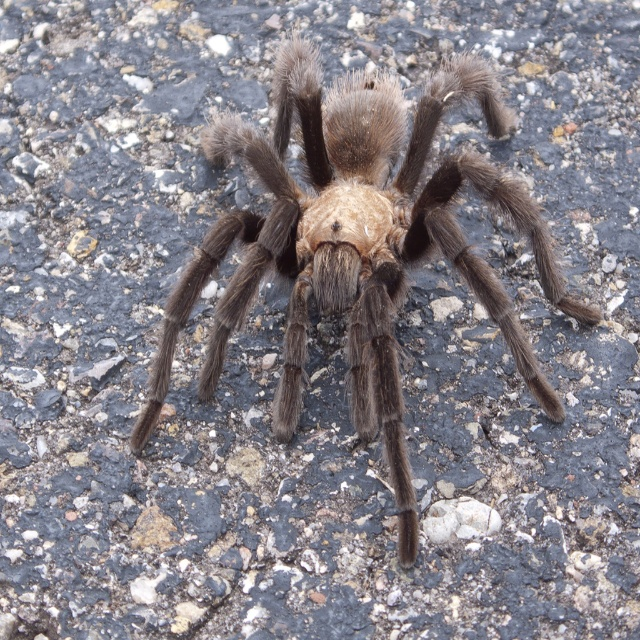Spider: (130, 27, 601, 570)
